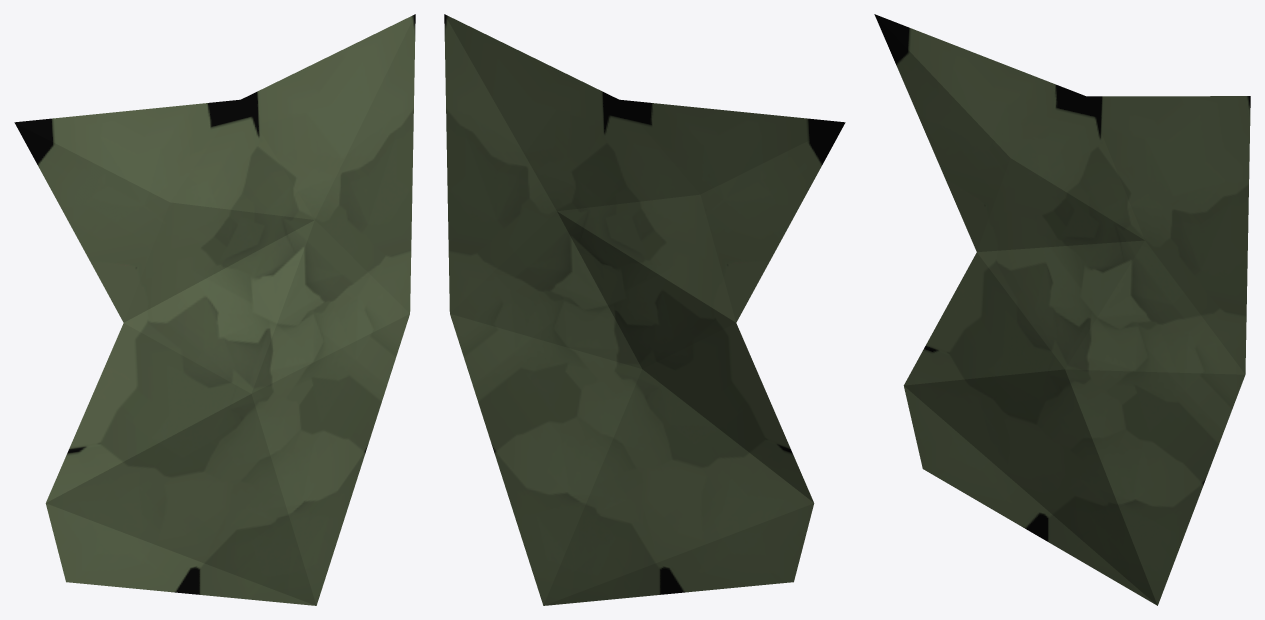
File: SM_Gen_Env_Ivy_05.gltf
3 views of the same model, side by side, from view 1: azimuth 30°, elevation 25°; view 2: azimuth 150°, elevation 25°; view 3: azimuth 330°, elevation 25° (orthographic). The views are drawn at different scales.
Visible parts, largest first — view 1: SM_Gen_Env_Ivy_05; view 2: SM_Gen_Env_Ivy_05; view 3: SM_Gen_Env_Ivy_05.
Boxes of the visible parts, <box> form: SM_Gen_Env_Ivy_05: <box>14,14,415,605</box>; SM_Gen_Env_Ivy_05: <box>444,14,845,605</box>; SM_Gen_Env_Ivy_05: <box>874,14,1250,605</box>.
Size of the model in its own units: 1.16 by 1.56 by 0.0843.
1 material, 1 textured.
